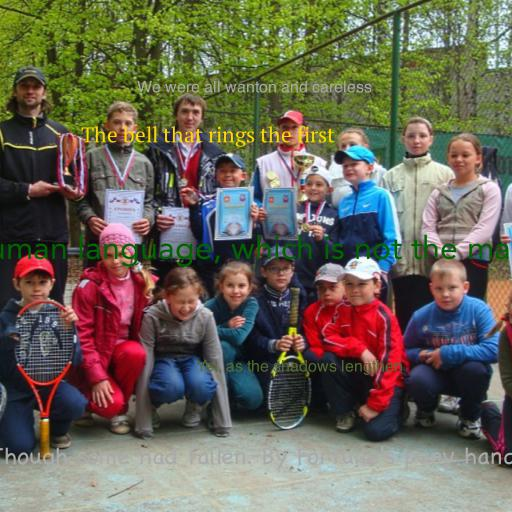Avenir: (0, 234, 512, 267)
Big Caslon: (195, 360, 403, 376)
Chalkboard: (0, 445, 512, 471)
Impact: (136, 80, 372, 93)
PT Serif: (81, 126, 335, 147)
